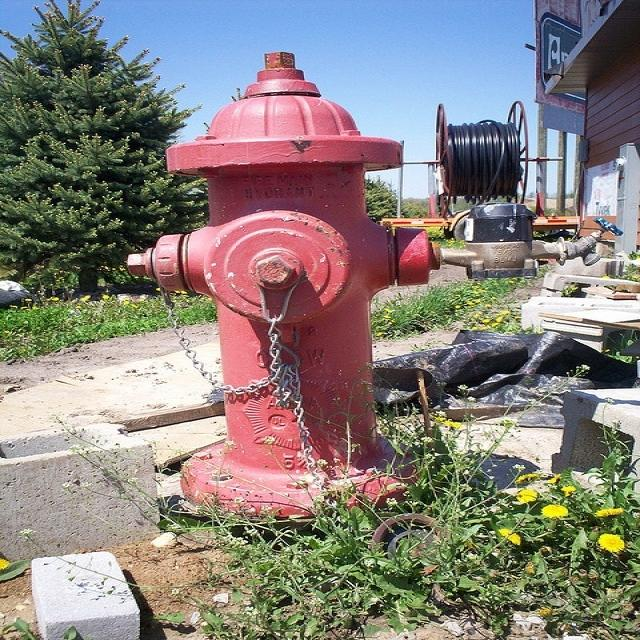fire_hydrant: (112, 66, 492, 520)
